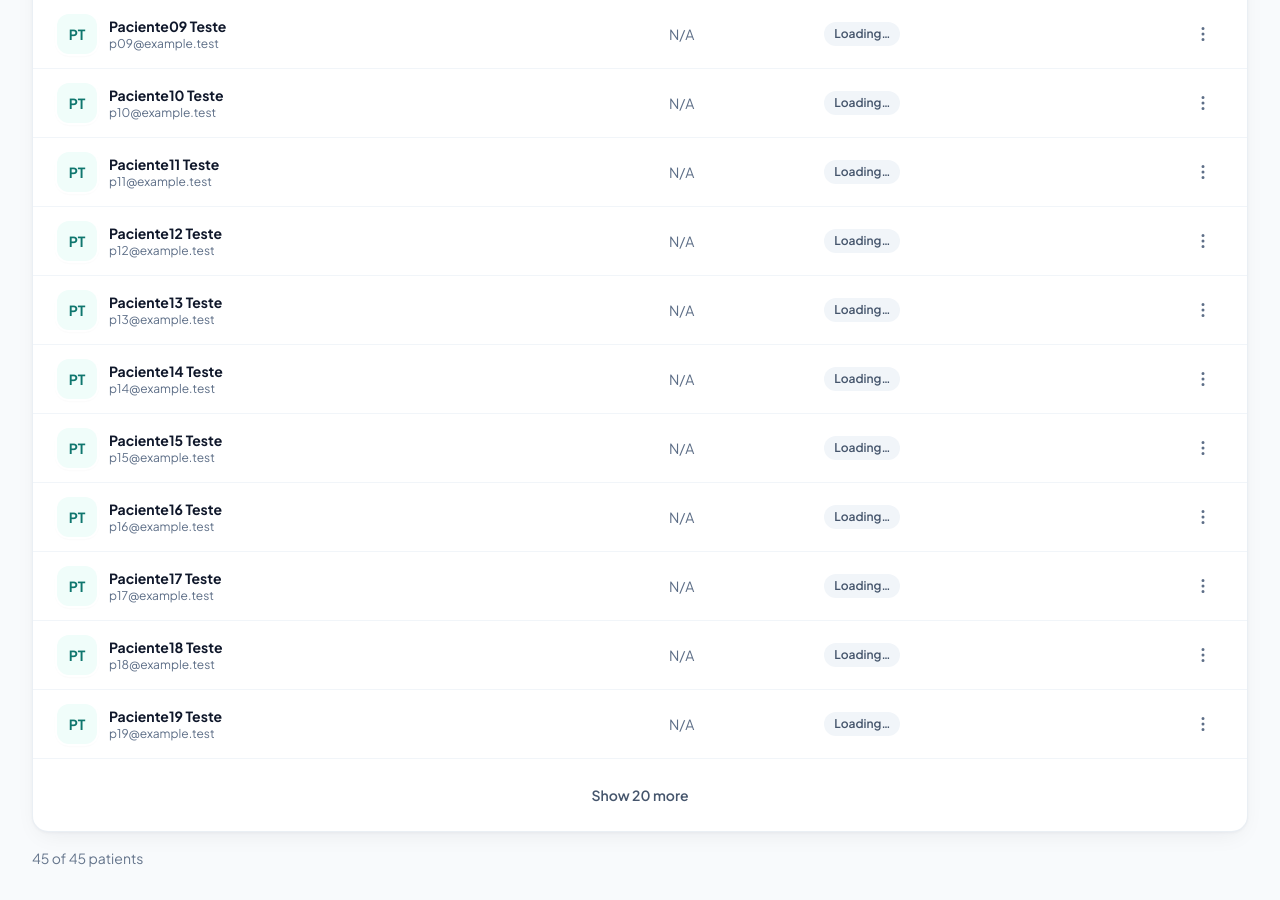
Test case: Patients page — pagination and bounded diet reads › loads the next page on demand without re-reading visible rows
(page scrolled)
Click the button "Show 20 more": point(640, 795) [571, 775, 709, 815]
(page scrolled)
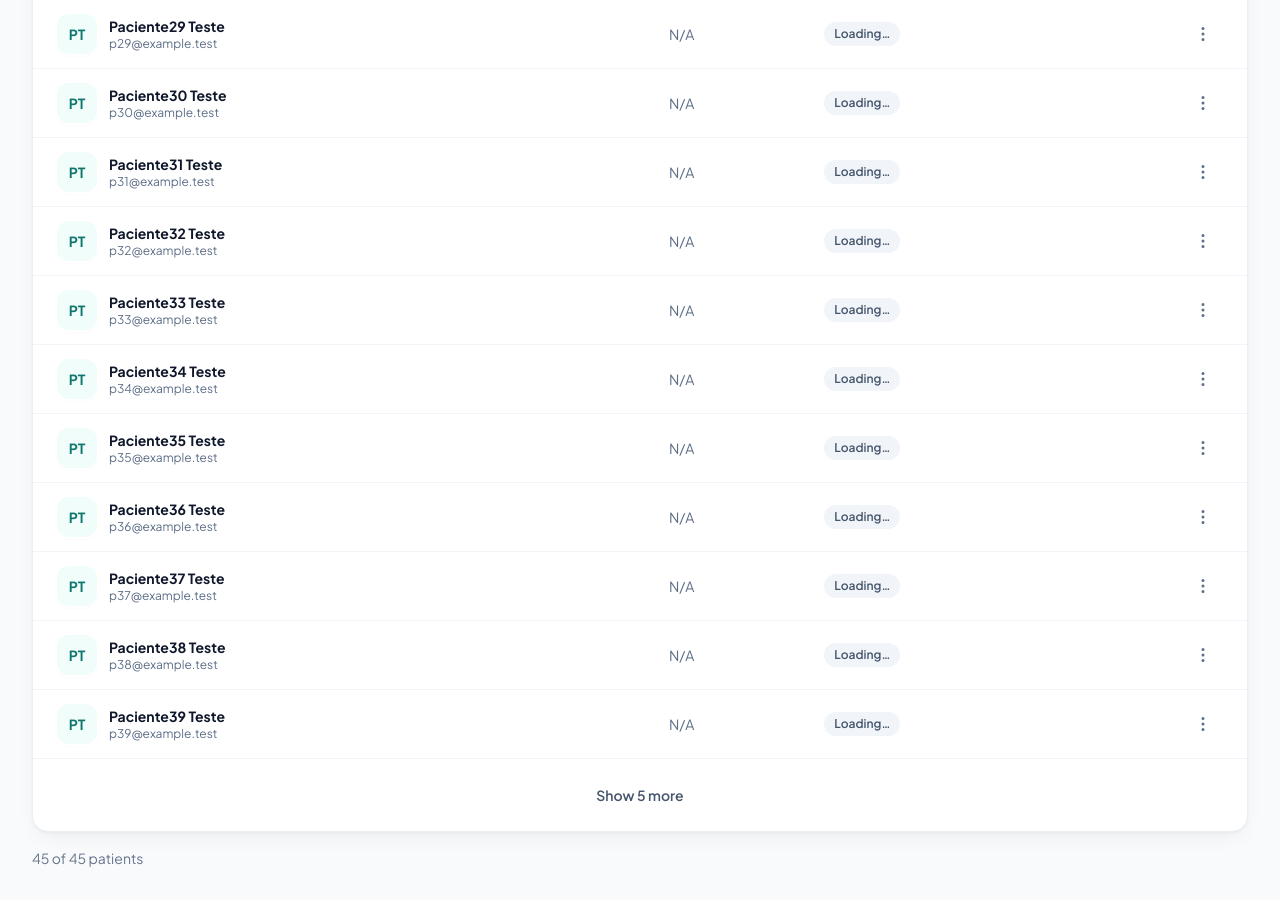
Click the button "Show 5 more": point(640, 795) [576, 775, 704, 815]
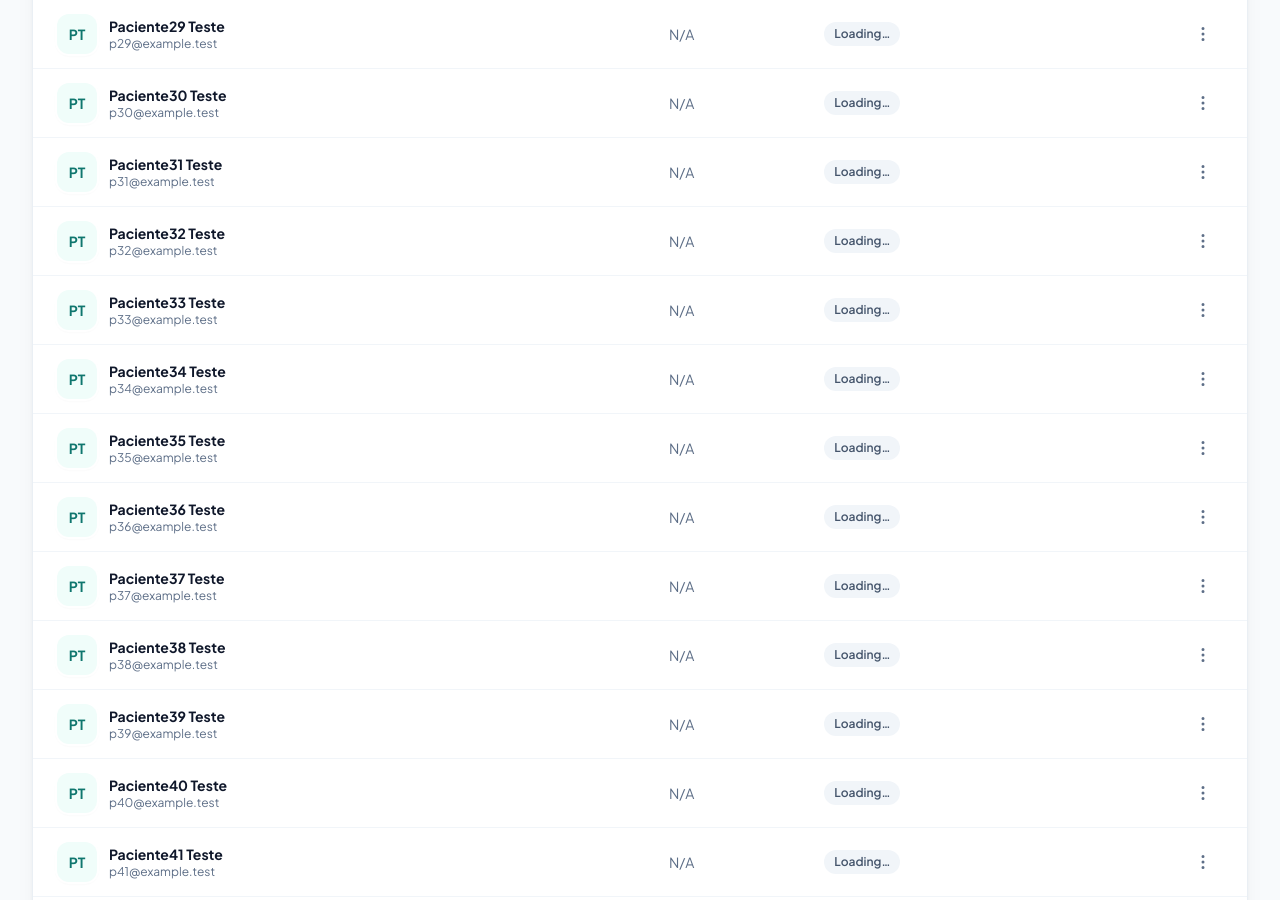
Result: the button "Show 5 more" is gone
